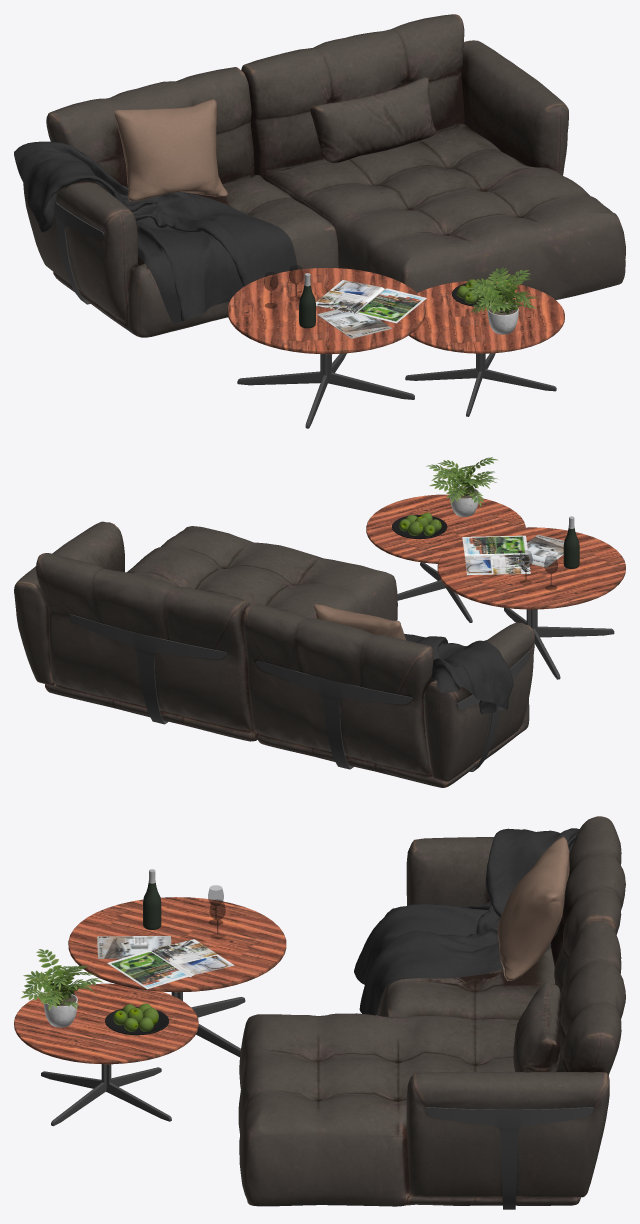
3 views of the same model, one above another, from view 1: azimuth 30°, elevation 25°; view 2: azimuth 150°, elevation 25°; view 3: azimuth 270°, elevation 25° (orthographic). The views are drawn at different scales.
Parts seen in each view (by area): view 1: polySurface7, Coffee_table, Coffee_table1, Magazine_2, Flower1, polySurface3, Magazine_1, Jar1, polySurface1, Apples; view 2: polySurface7, Coffee_table, Coffee_table1, polySurface4, polySurface5, Magazine_2, Flower1, Apples, Magazine_1, polySurface3, polySurface1, Jar1; view 3: polySurface7, Coffee_table, Coffee_table1, polySurface6, Magazine_2, Flower1, Apples, Magazine_1, polySurface1, Jar1.
Part boxes in pixels (bbox=[...]): polySurface7: bbox=[14, 14, 625, 337]; Coffee_table: bbox=[227, 268, 425, 428]; Coffee_table1: bbox=[405, 280, 564, 416]; Magazine_2: bbox=[315, 280, 426, 323]; Flower1: bbox=[467, 267, 539, 314]; polySurface3: bbox=[54, 202, 103, 304]; Magazine_1: bbox=[317, 309, 391, 338]; Jar1: bbox=[487, 302, 518, 334]; polySurface1: bbox=[299, 285, 315, 328]; Apples: bbox=[452, 279, 507, 306]; polySurface7: bbox=[14, 521, 534, 787]; Coffee_table: bbox=[437, 527, 625, 679]; Coffee_table1: bbox=[366, 494, 525, 622]; polySurface4: bbox=[69, 614, 226, 724]; polySurface5: bbox=[255, 660, 412, 769]; Magazine_2: bbox=[462, 535, 530, 575]; Flower1: bbox=[426, 457, 498, 506]; Apples: bbox=[392, 512, 447, 538]; Magazine_1: bbox=[527, 534, 564, 567]; polySurface3: bbox=[457, 650, 530, 771]; polySurface1: bbox=[563, 528, 579, 568]; Jar1: bbox=[449, 486, 479, 516]; polySurface7: bbox=[238, 816, 625, 1206]; Coffee_table: bbox=[68, 897, 286, 1064]; Coffee_table1: bbox=[14, 983, 198, 1126]; polySurface6: bbox=[425, 1107, 593, 1209]; Magazine_2: bbox=[107, 939, 234, 989]; Flower1: bbox=[21, 949, 102, 1010]; Apples: bbox=[105, 1003, 169, 1035]; Magazine_1: bbox=[97, 936, 171, 958]; polySurface1: bbox=[143, 882, 161, 929]; Jar1: bbox=[43, 992, 77, 1027].
Bounding box in the file's own units: 250 × 78.86 × 246.
Materials: 10 (6 with a texture image).
